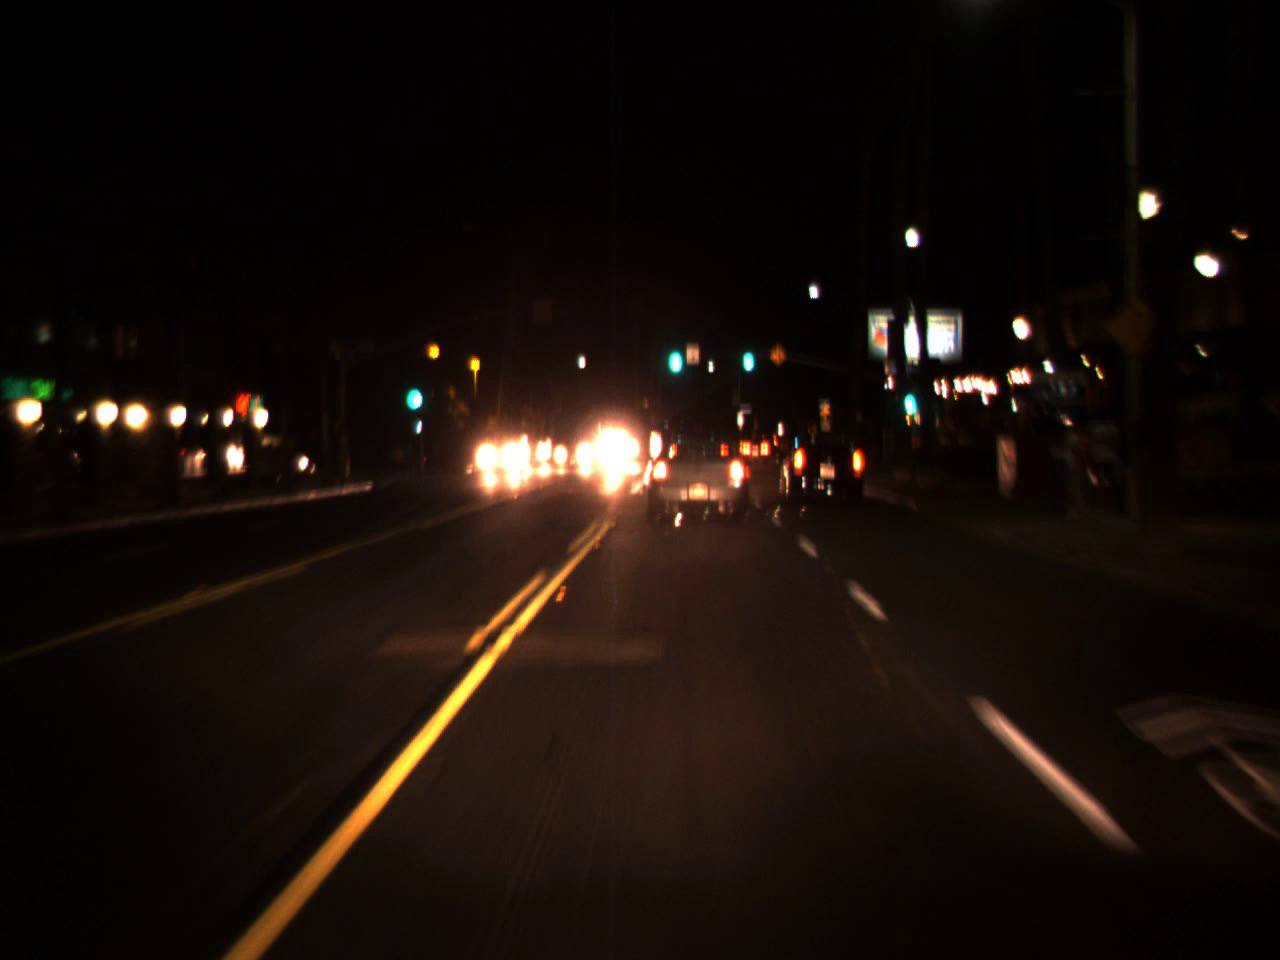go: (894, 368, 922, 422), (662, 320, 685, 383), (400, 361, 423, 418), (739, 329, 755, 377)
